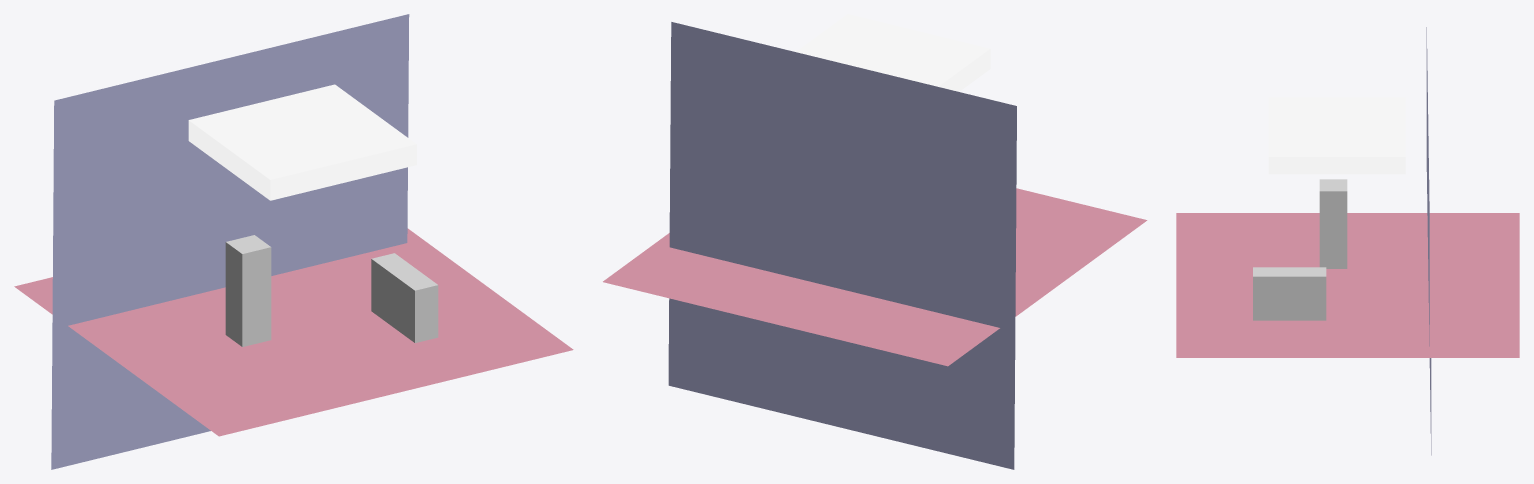
File: pathtracer_test_box.gltf
The picture shows the model from 3 angles, left to right: view 1: azimuth 30°, elevation 25°; view 2: azimuth 150°, elevation 25°; view 3: azimuth 270°, elevation 25°; orthographic projection. The views are drawn at different scales.
Parts seen in each view (by area): view 1: Plane.002, Plane.001, Cube.002, Cube, Cube.001; view 2: Plane.002, Plane.001, Cube.002; view 3: Plane.001, Cube.002, Cube.001, Cube, Plane.002.
Part boxes in pixels (<box>): Plane.002: <box>51,14,409,469</box>; Plane.001: <box>14,228,573,436</box>; Cube.002: <box>188,84,416,200</box>; Cube: <box>225,235,271,346</box>; Cube.001: <box>371,253,438,342</box>; Plane.002: <box>668,22,1016,469</box>; Plane.001: <box>603,188,1147,366</box>; Cube.002: <box>796,14,990,91</box>; Plane.001: <box>1176,213,1519,357</box>; Cube.002: <box>1268,97,1405,174</box>; Cube.001: <box>1253,267,1326,320</box>; Cube: <box>1319,179,1347,268</box>; Plane.002: <box>1426,27,1431,455</box>.
Bounding box in the file's own units: 25.67 × 24.6 × 24.61.
